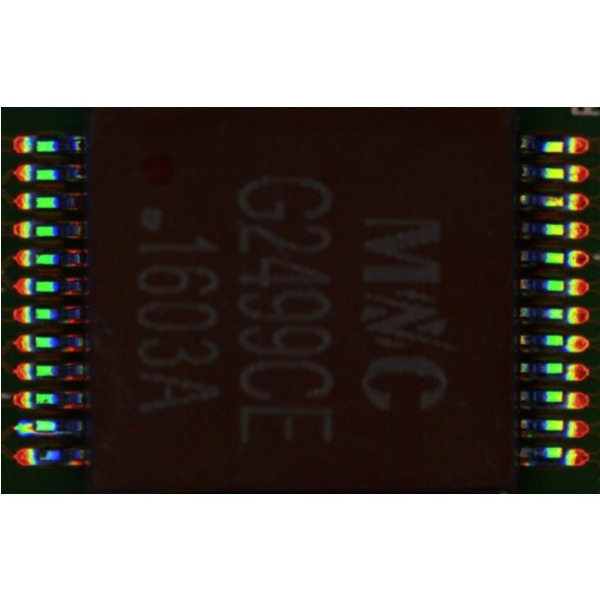Bad_podu: (26, 422, 41, 430)
Bad_qiaojiao: (35, 429, 72, 435)
